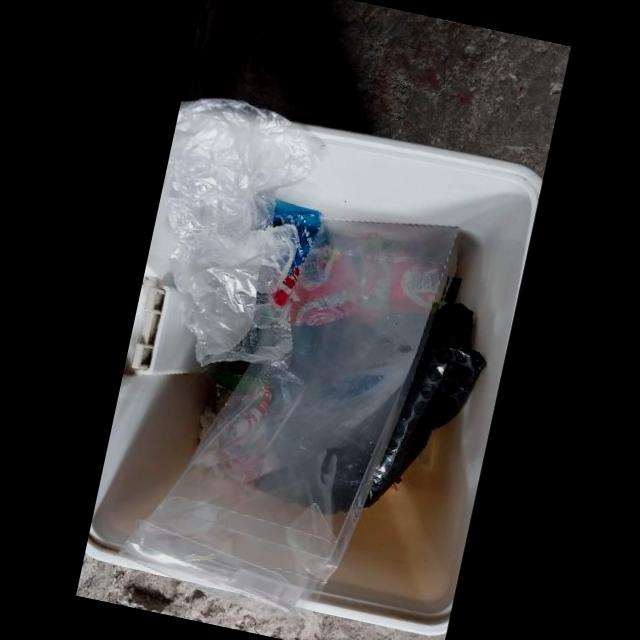tui_ni_long: (164, 98, 329, 369)
